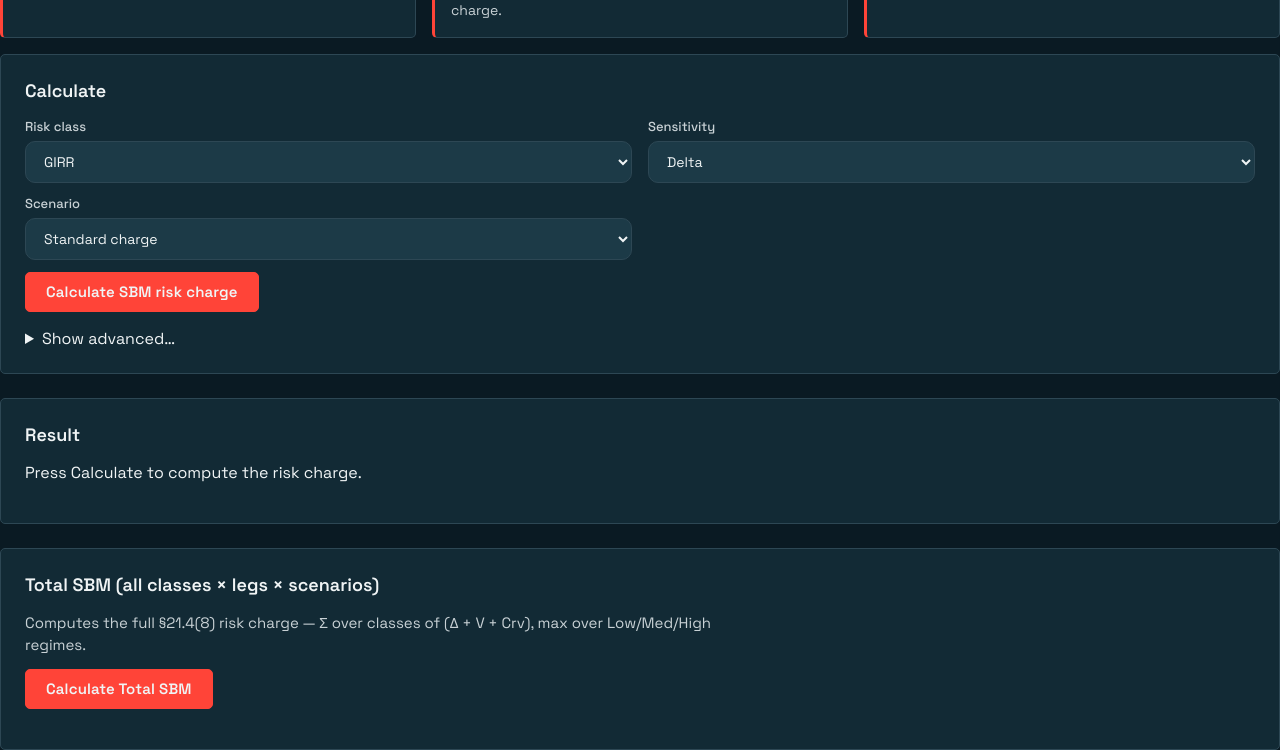
it: <CalcPanel /> — Total SBM card (Wave 5.96B) › renders an alert when the orchestrator request fails
The image size is (1280, 750).
(page scrolled)
Click the button with test id "calc-total-cta" at (119, 689), box [25,669,213,709]
(page scrolled)
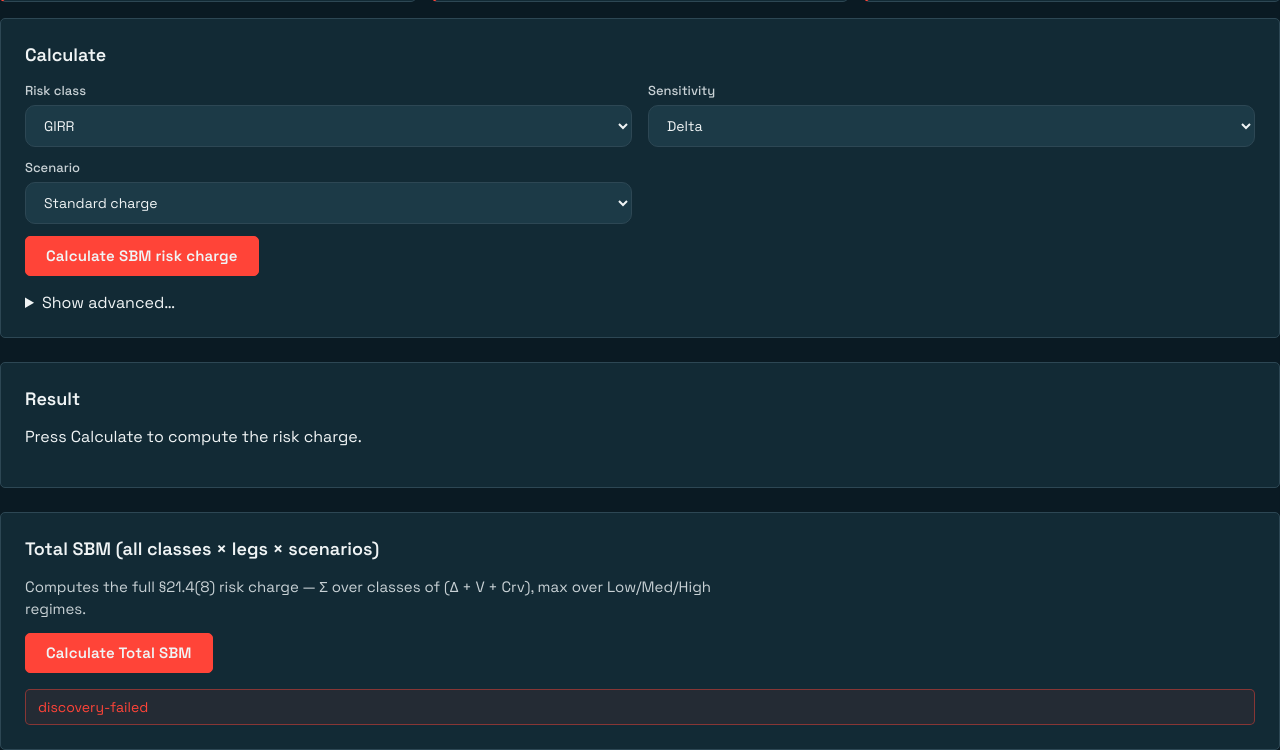
Expected: the button with test id "calc-total-cta" reads "Calculate Total SBM", [25,633,213,673]
Expected: the message "discovery-failed" is shown, [25,689,1255,725]
